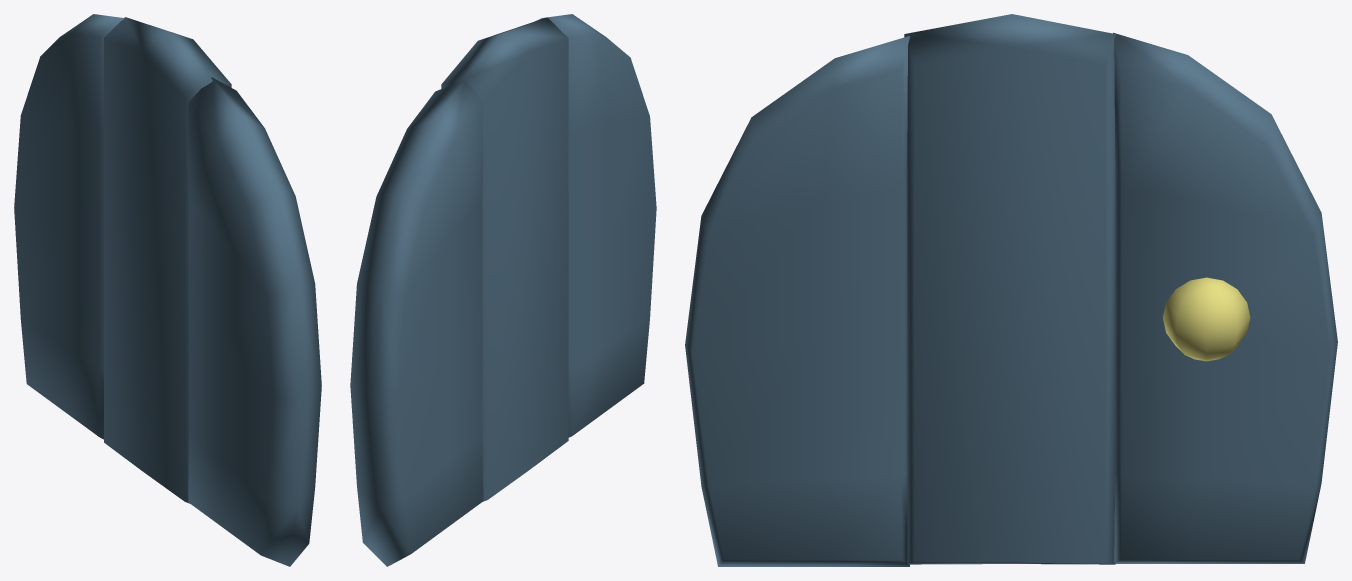
File: IglooDoor.fbx
3 renders of one model, left to right at view 1: azimuth 30°, elevation 25°; view 2: azimuth 150°, elevation 25°; view 3: azimuth 270°, elevation 25°, orthographic. The views are drawn at different scales.
Visible parts, largest first — view 1: pSphere1; view 2: pSphere1; view 3: pSphere1.
Boxes of the visible parts, x1,y1,x2,y2 form: pSphere1: (14,14,321,566); pSphere1: (350,14,656,566); pSphere1: (685,14,1337,566).
Bounding box in the file's own units: 0.6961 × 3.66 × 3.93.
